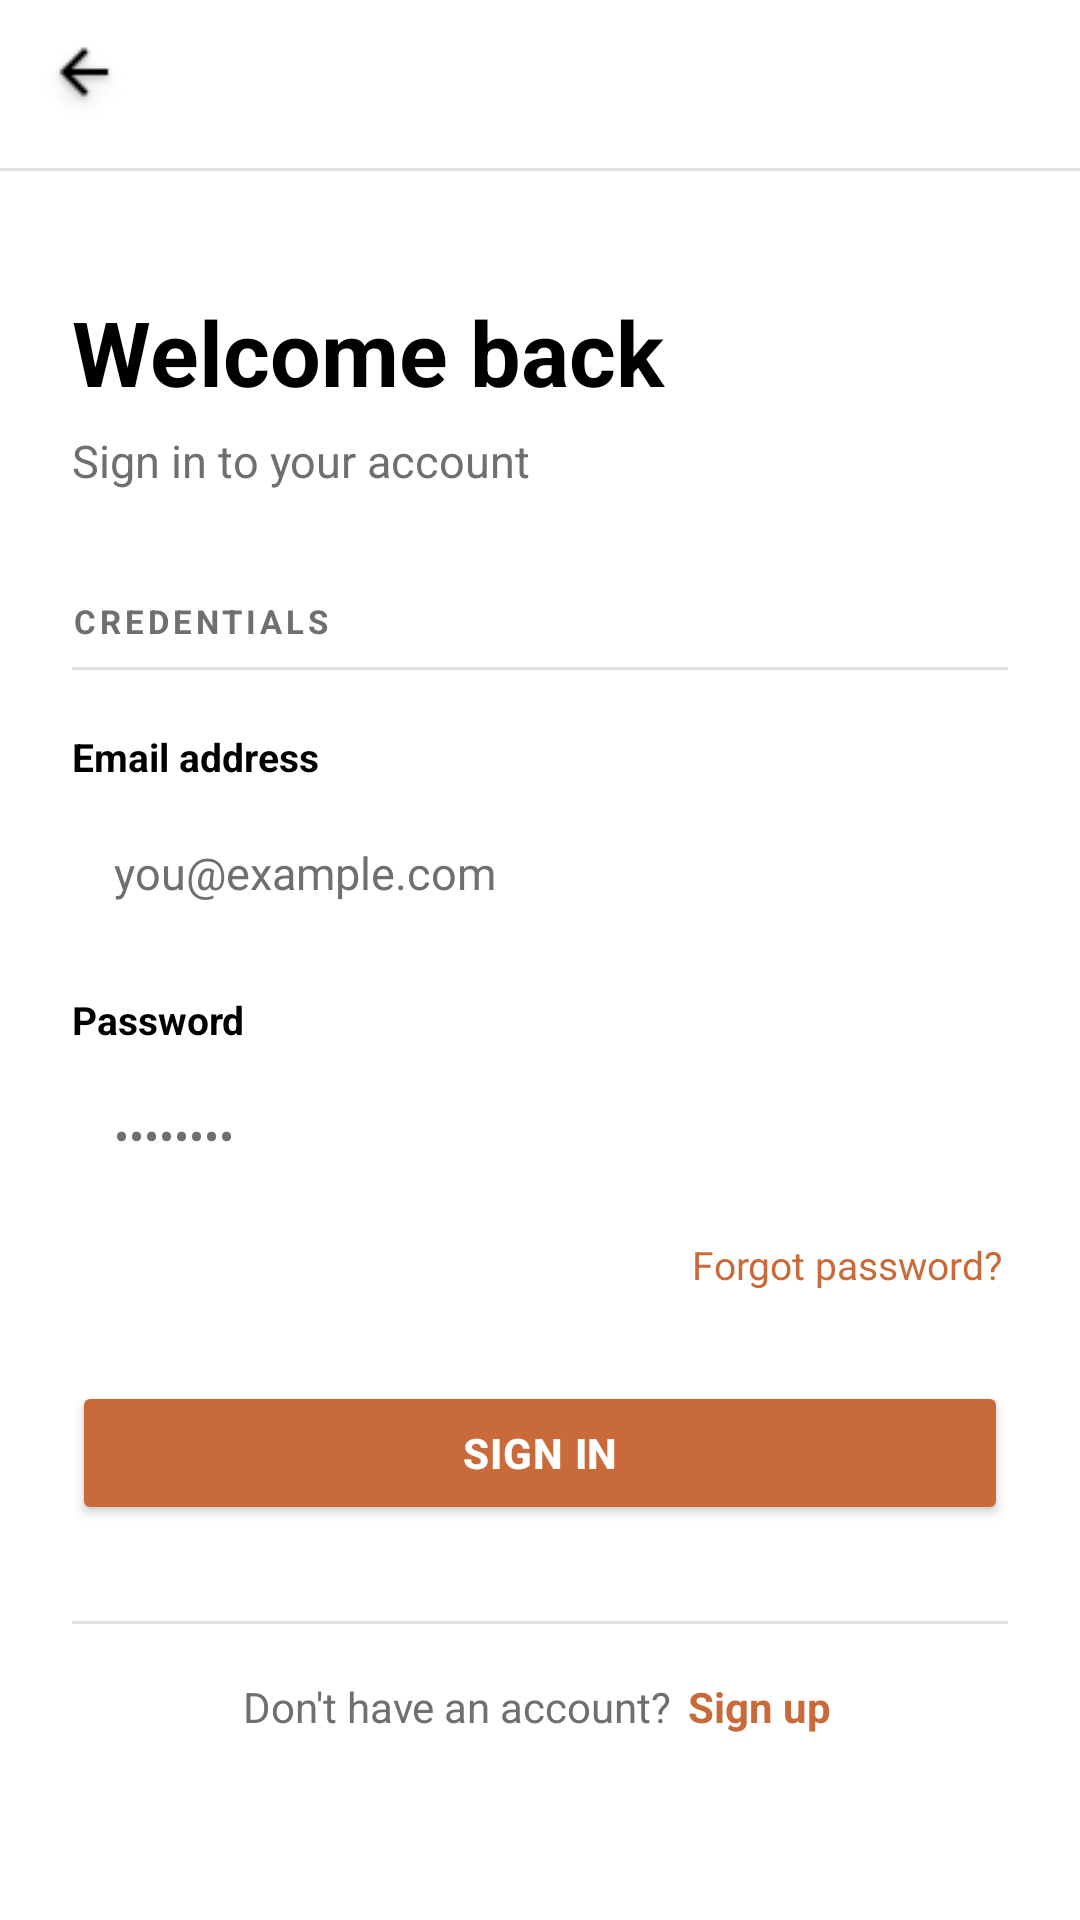

Icon bounding boxes for this 1080x1920 phone screenshot, format (x1, y1, x2, y2):
Go back: (59, 47, 109, 99)
